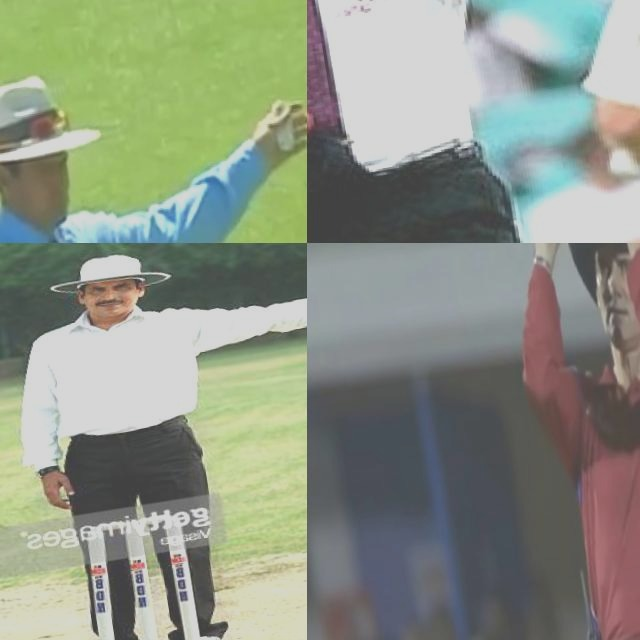No_Ball: (0, 243, 307, 640)
Out: (307, 0, 580, 243)
Six: (475, 243, 640, 640)
Wide: (0, 27, 307, 243)
